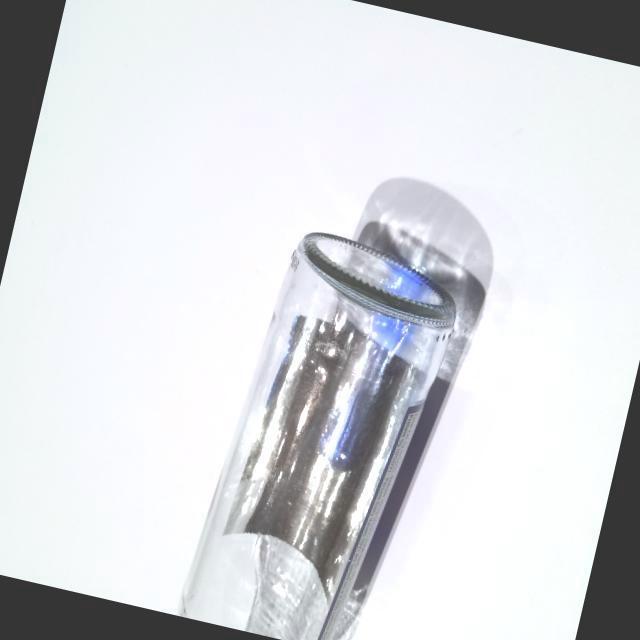glass: (169, 209, 493, 640)
